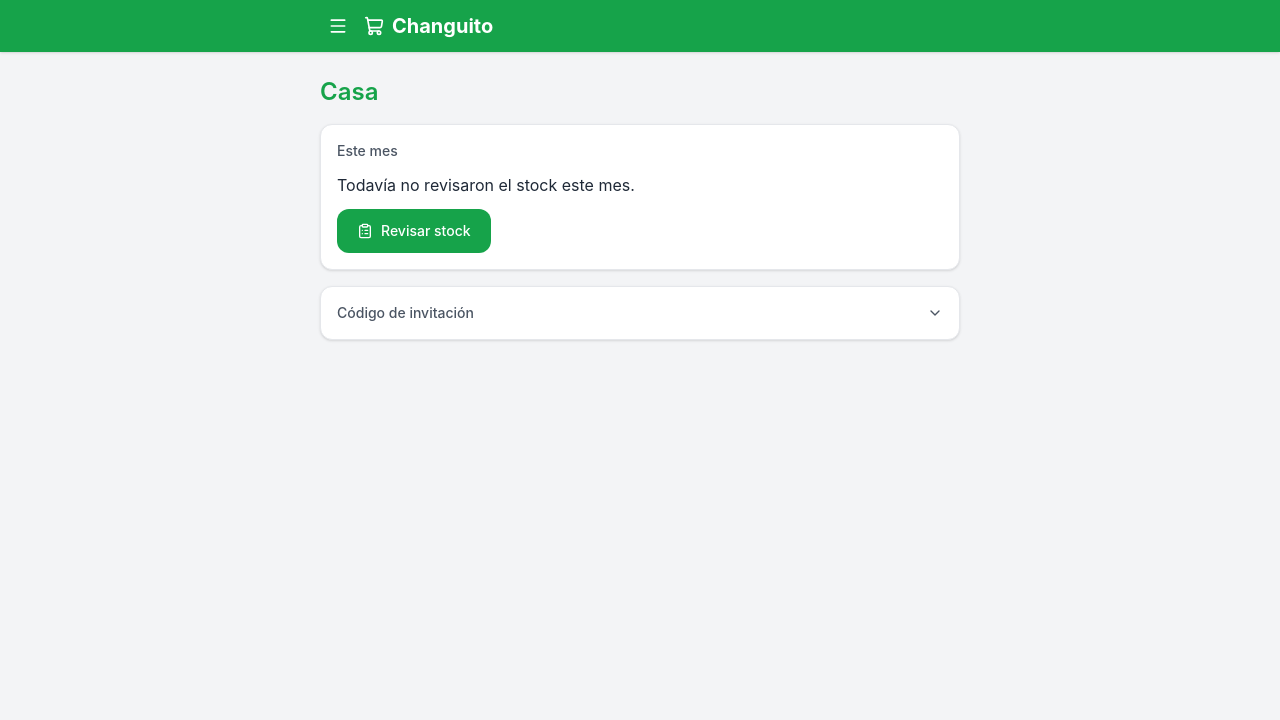
Scenario: AppRoutes › moves between sections from the side menu and closes it
Expected: the heading "Casa" is shown, [320,77,378,106]
Expected: the link "Catálogo" is not shown
What coordinates should you click on to do the following:
click the button named "Abrir menú"
I would click on:
 (338, 26)
Its box is [320,8,356,44].
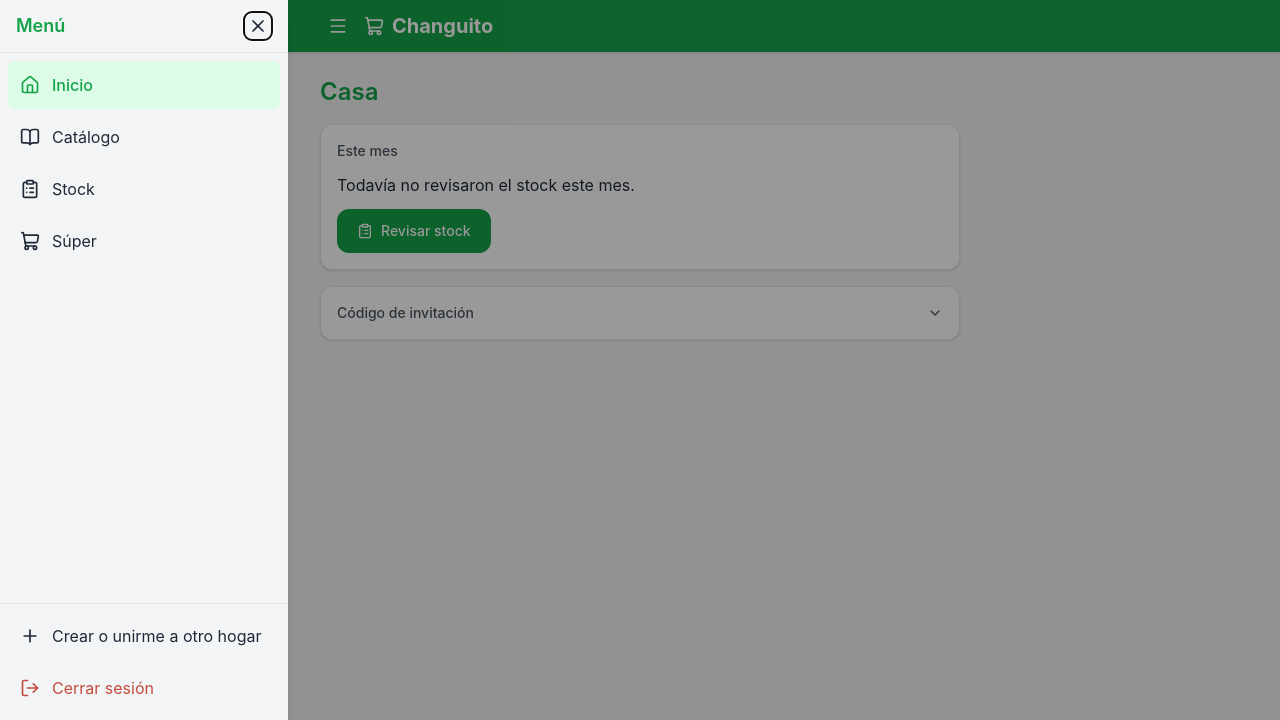
What coordinates should you click on to do the following:
click the link "Catálogo"
I would click on:
 (70, 137)
Its box is [20,127,120,147].
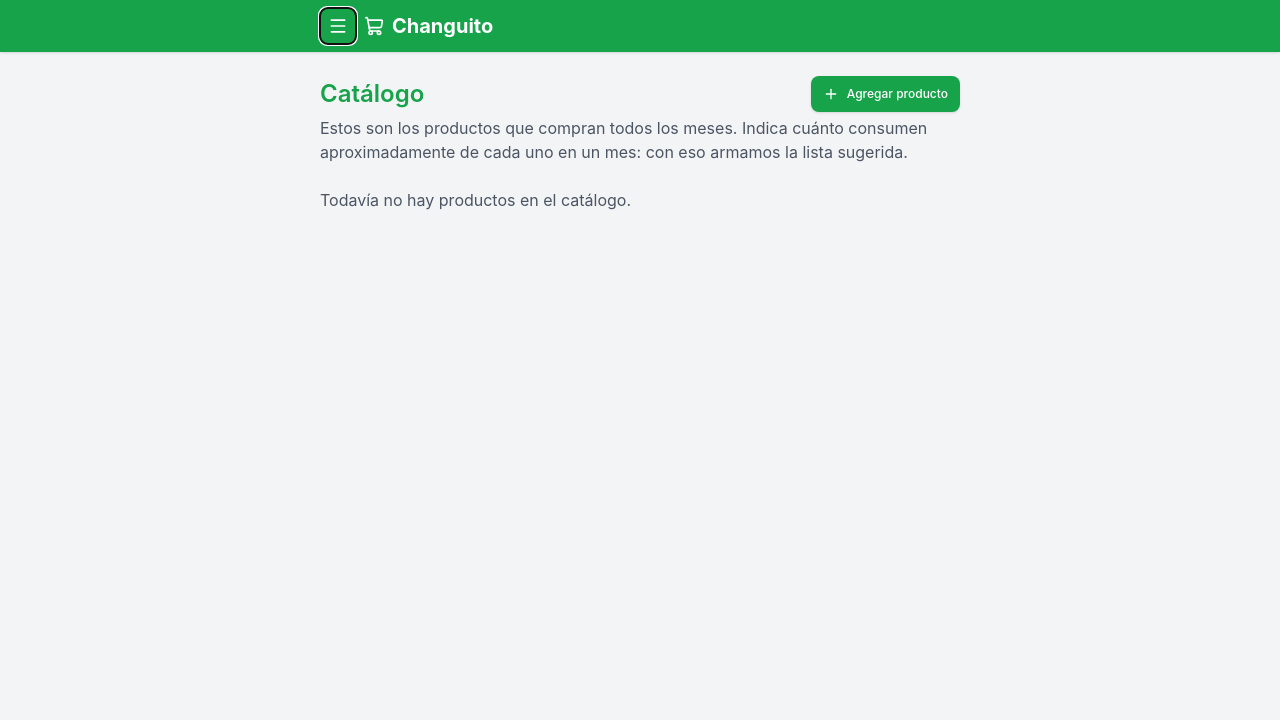
Expected: the heading "Catálogo" is shown, [320,78,424,110]
Expected: the heading "Menú" is gone
